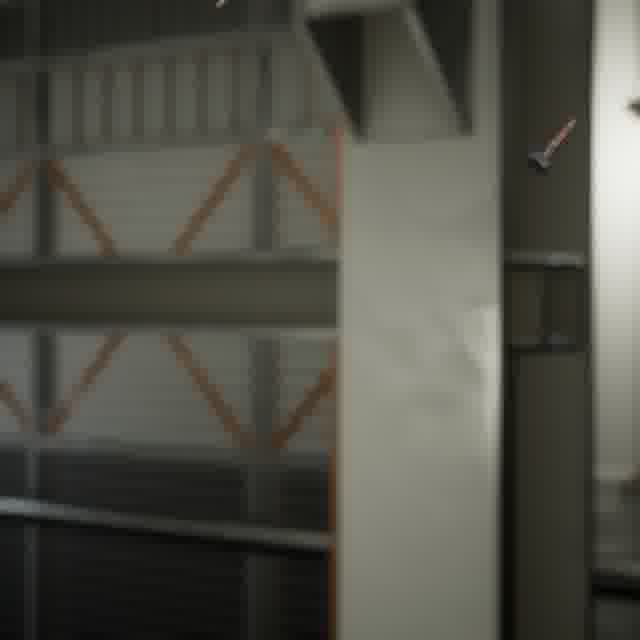bolt: (521, 113, 582, 178)
